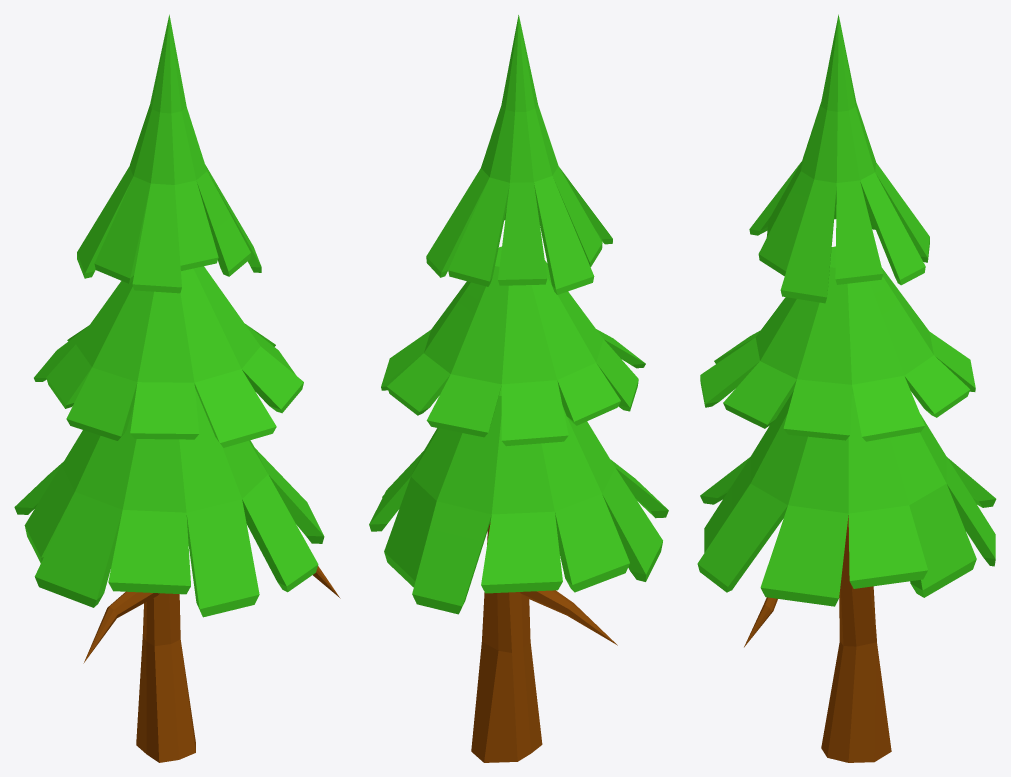
Rendered from ptree.glb.
3 renders of one model, left to right at view 1: azimuth 30°, elevation 25°; view 2: azimuth 150°, elevation 25°; view 3: azimuth 270°, elevation 25°, orthographic.
Parts seen in each view (by area): view 1: Tree_Fir; view 2: Tree_Fir; view 3: Tree_Fir.
Boxes of the visible parts, bbox=[...] form: Tree_Fir: bbox=[14, 14, 340, 762]; Tree_Fir: bbox=[369, 15, 668, 762]; Tree_Fir: bbox=[697, 14, 996, 762].
Size of the model in its own units: 2.59 by 6.78 by 2.51.
